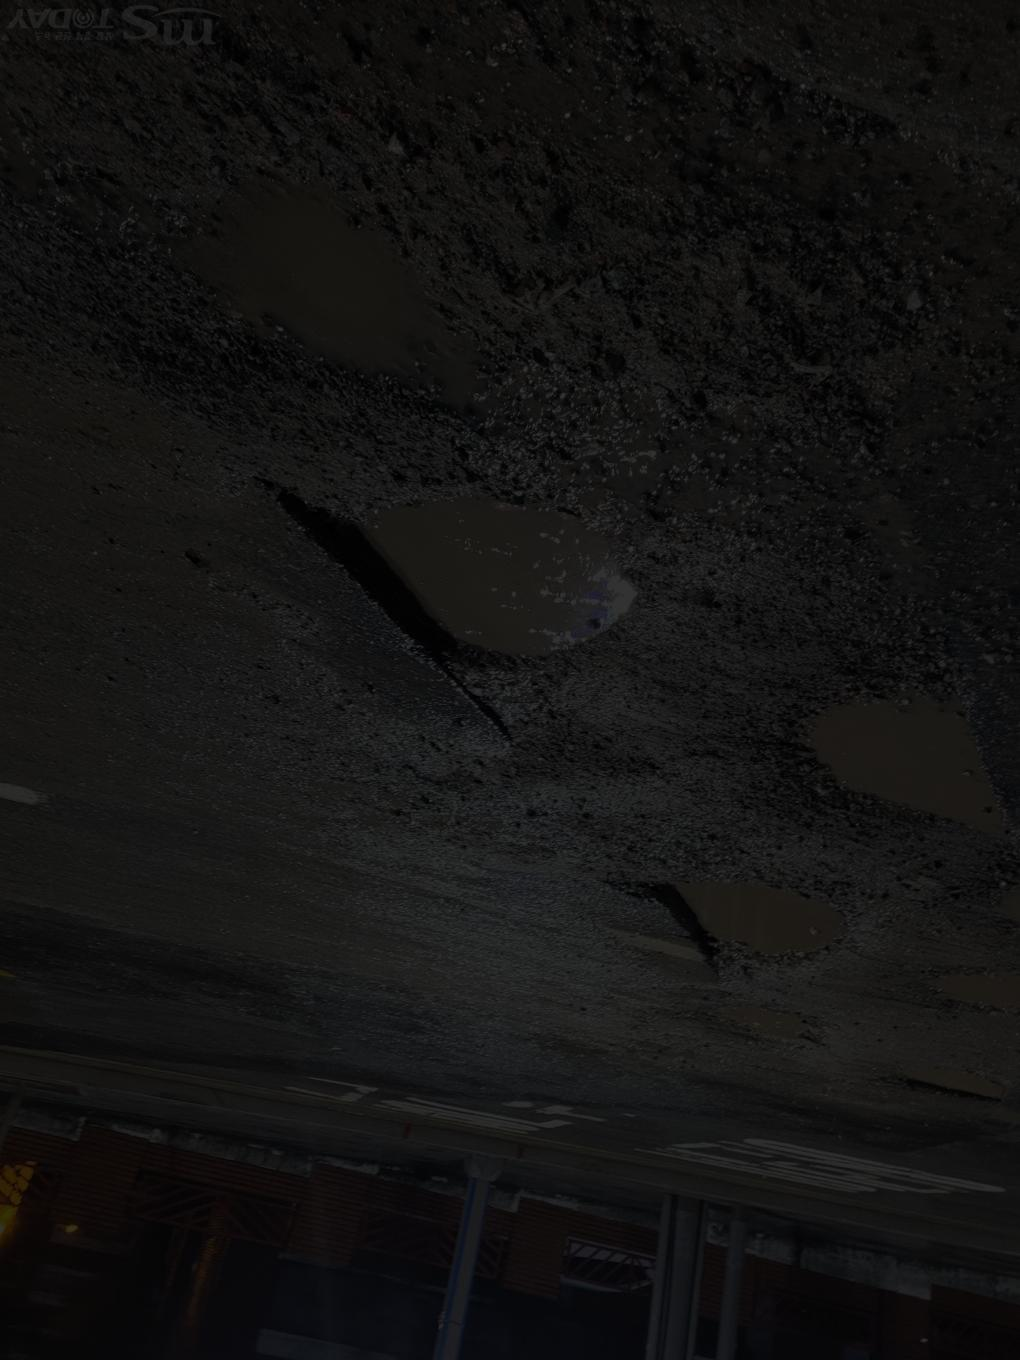pothole: (136, 112, 538, 428), (301, 472, 665, 715), (768, 652, 1020, 849), (622, 850, 841, 998), (691, 1000, 829, 1062), (880, 1058, 1020, 1114), (921, 970, 1020, 1014)
